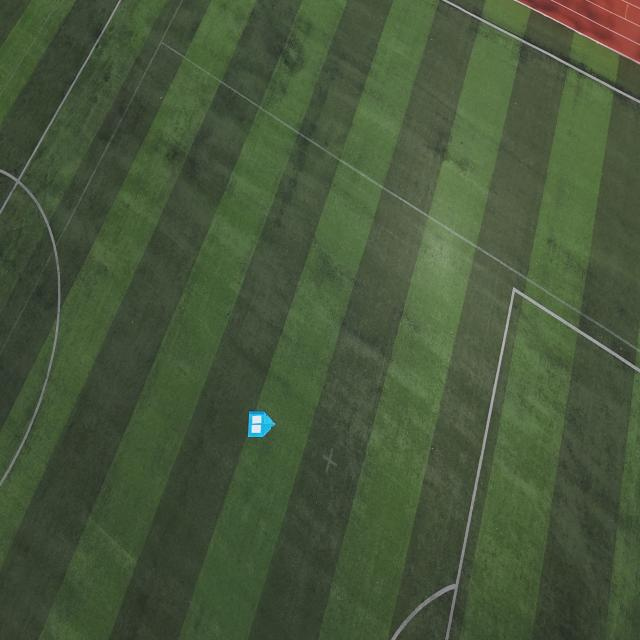board: (248, 411, 276, 437)
